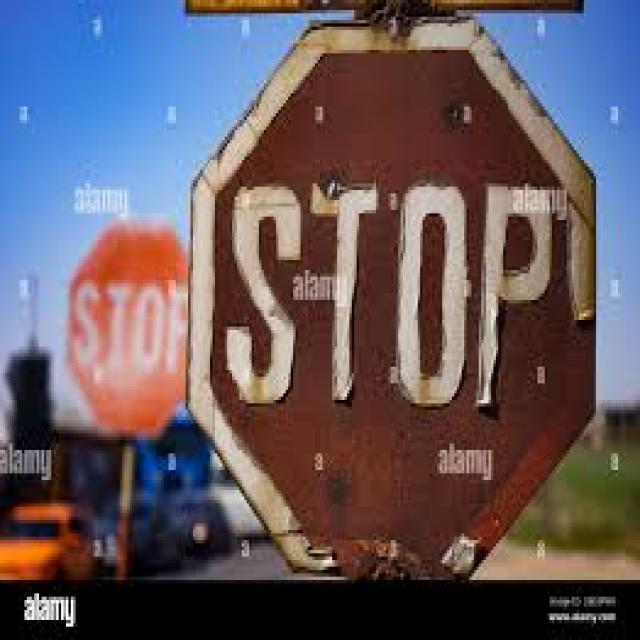stop-sign: (197, 162, 613, 454), (75, 216, 189, 440)
